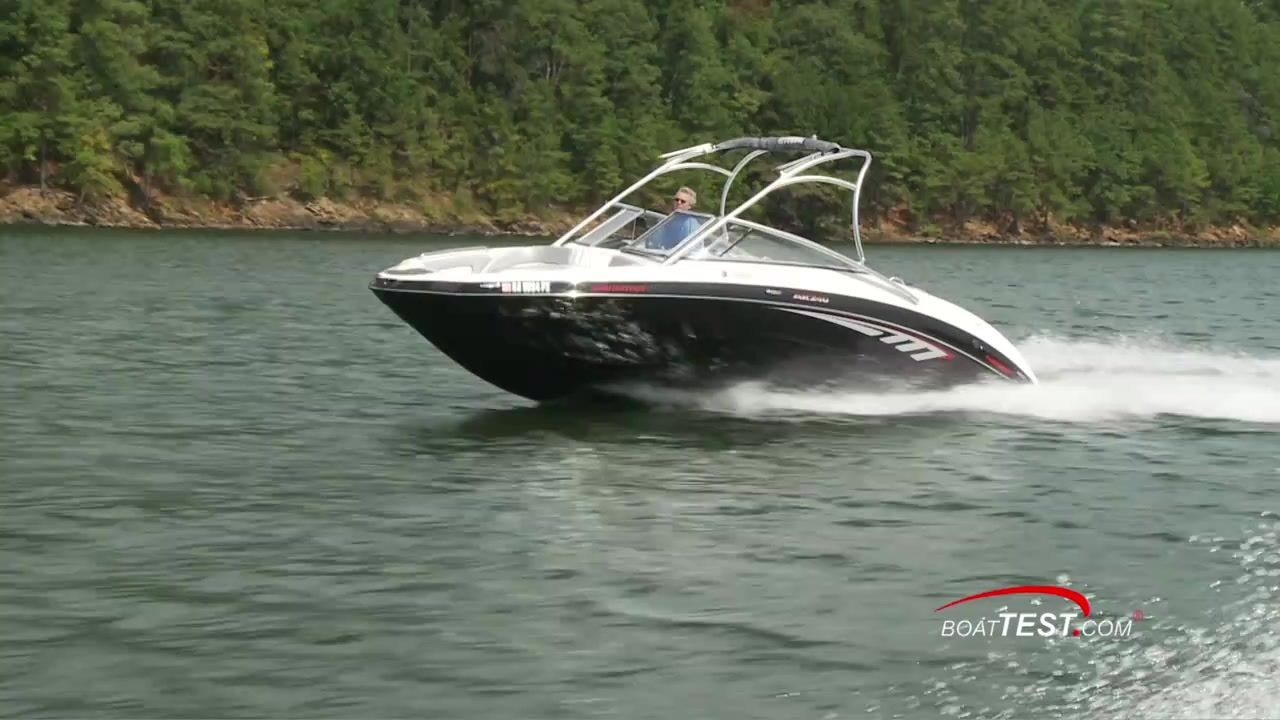boat: (378, 138, 1036, 423)
